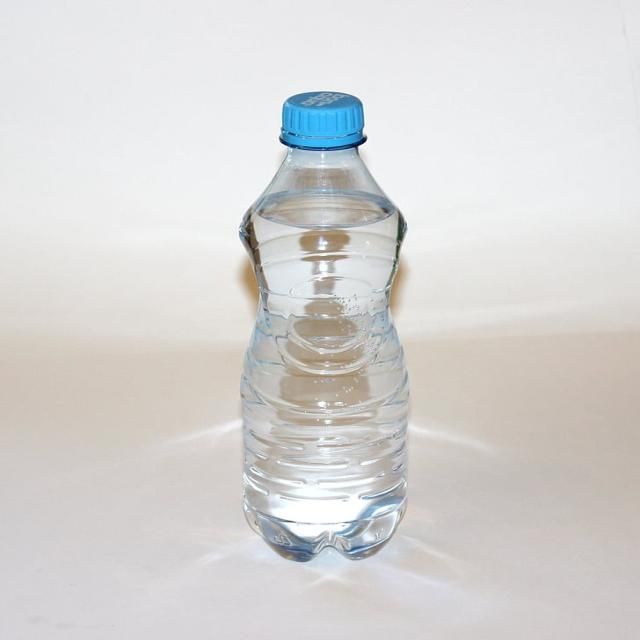plastic_bottle: (237, 90, 411, 562)
